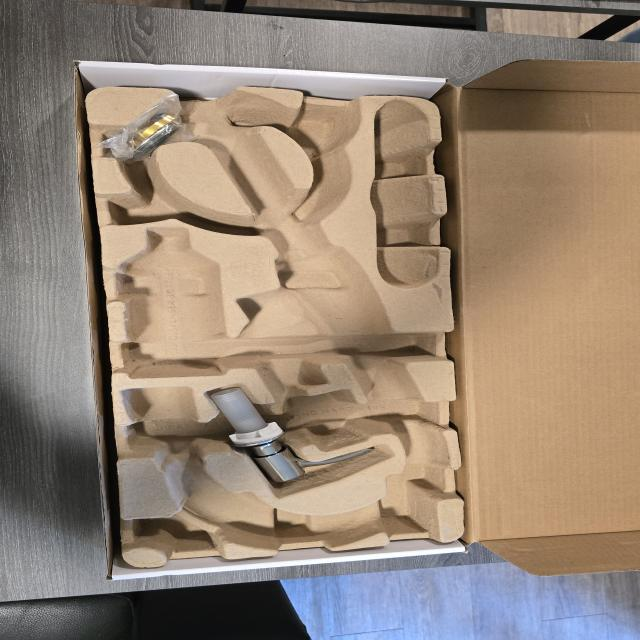1m: (122, 85, 448, 547)
2: (211, 388, 376, 485)
3m: (119, 228, 226, 379)
4m: (371, 99, 438, 289)
5m: (292, 107, 356, 154)
6: (92, 95, 195, 167)
7m: (114, 187, 210, 225)
